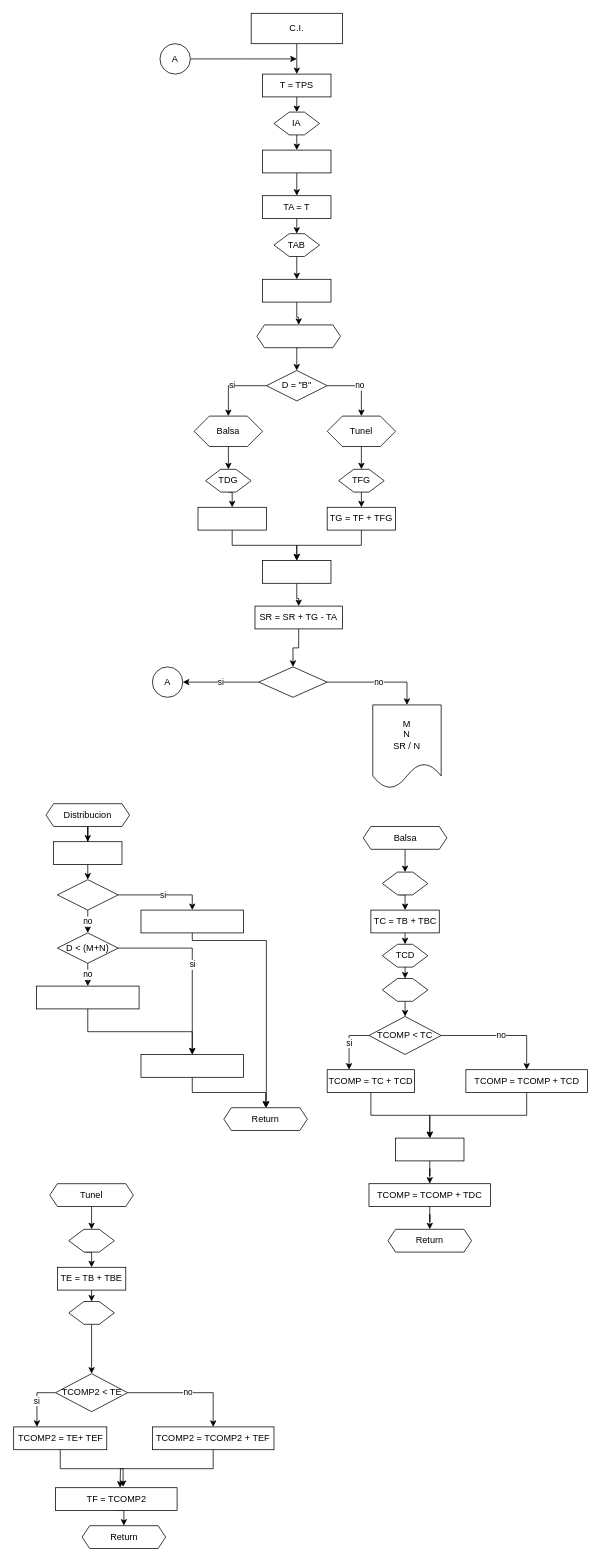
The diagram is 600 pixels wide and 1562 high, and some of its shapes have lost their labels. Each missing label, with the box of its shape:
D <= M: (57, 879, 118, 910)
D = 1: (36, 985, 139, 1009)
D = D + 1: (53, 841, 122, 864)
D = Distribucion: (256, 324, 340, 348)
Distribucion = "B": (140, 909, 244, 933)
Distribucion = "T": (140, 1054, 244, 1077)
N = N + 1: (262, 560, 331, 583)
T < TFINAL: (258, 666, 327, 697)
TB = TA + TAB: (262, 279, 331, 302)
TBC: (382, 871, 428, 895)
TBE: (68, 1229, 114, 1252)
TD = TCOMP: (395, 1137, 464, 1161)
TDC: (382, 978, 428, 1001)
TEF: (68, 1301, 114, 1324)
TG = TD + TDG: (197, 507, 266, 530)
TPS = T + IA: (262, 149, 331, 173)
